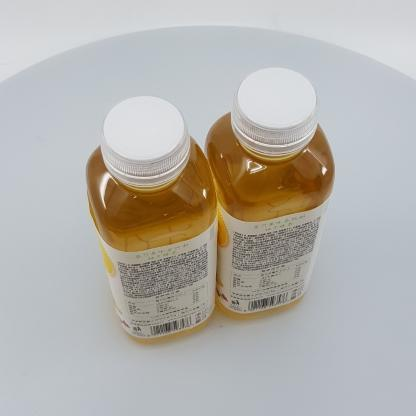------------: (204, 67, 335, 320), (85, 95, 218, 344)
